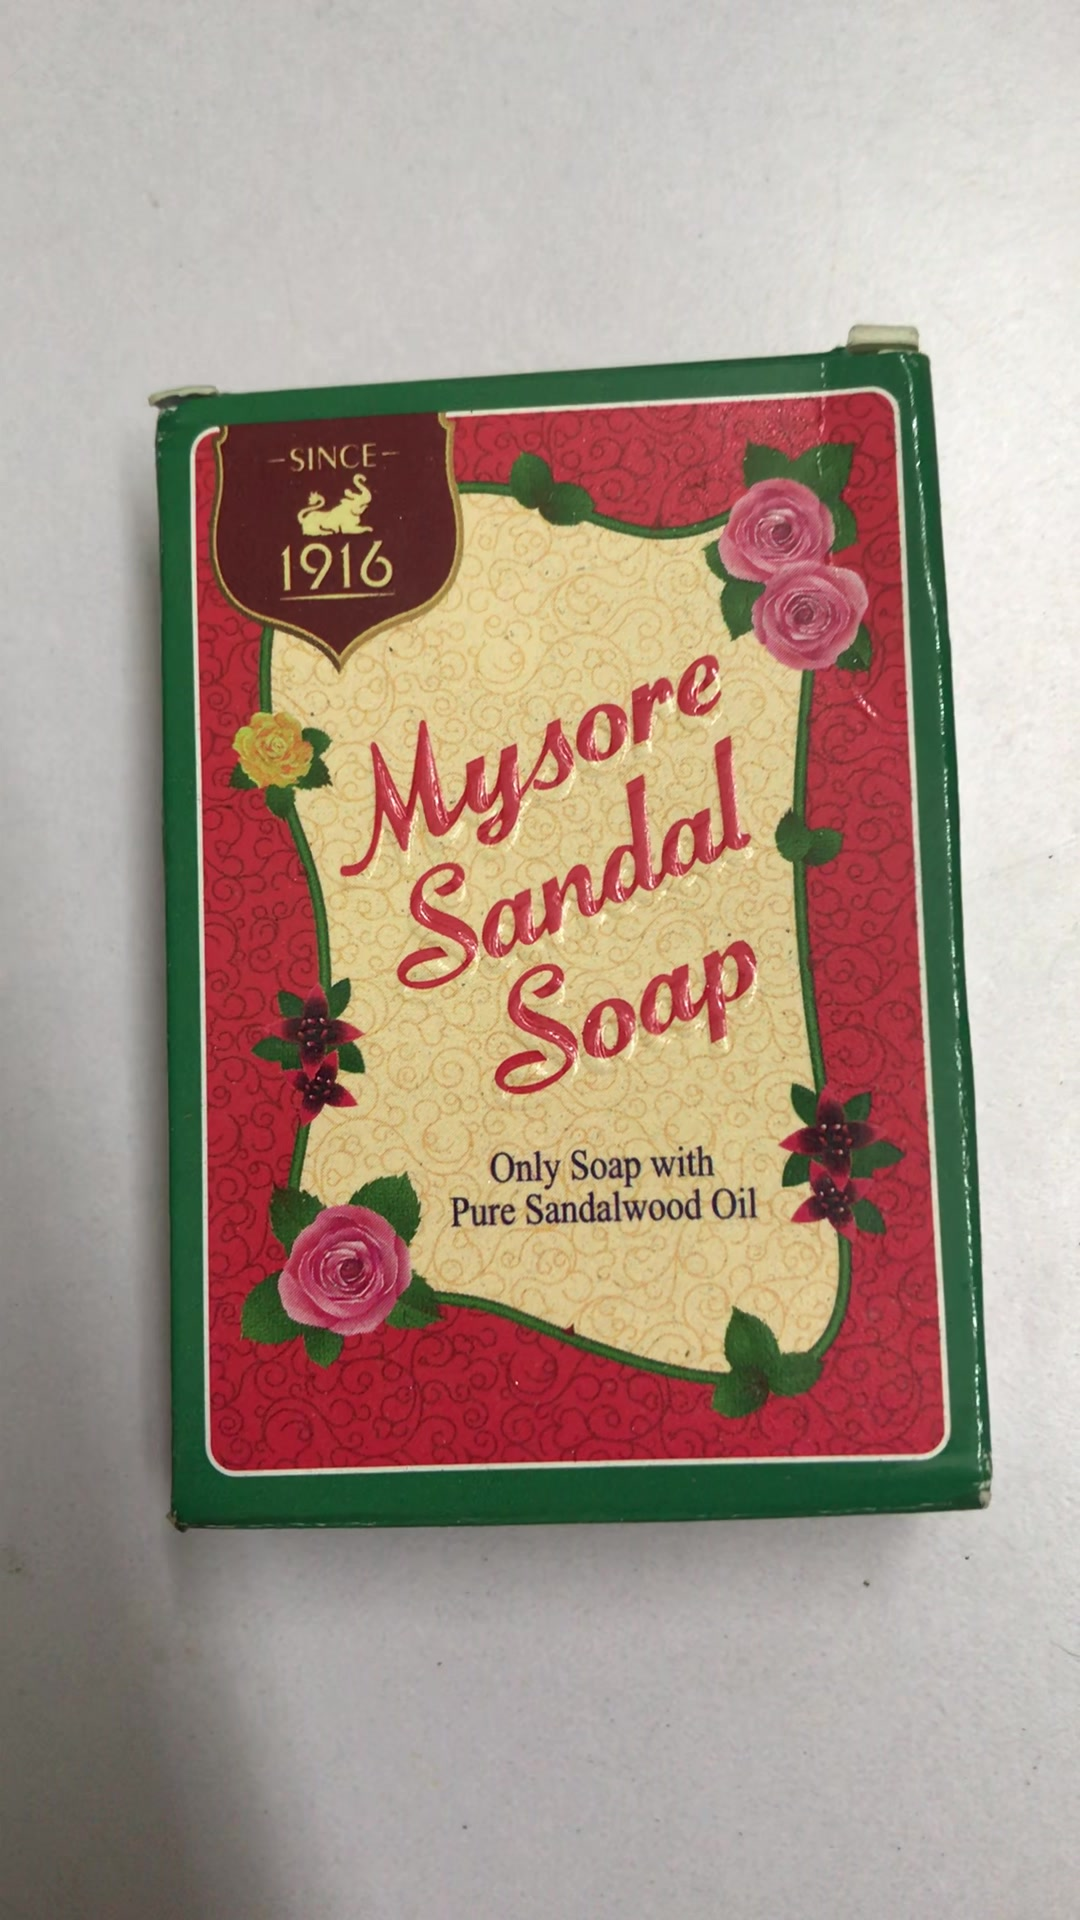mysore sandal soap: (161, 345, 982, 1513)
